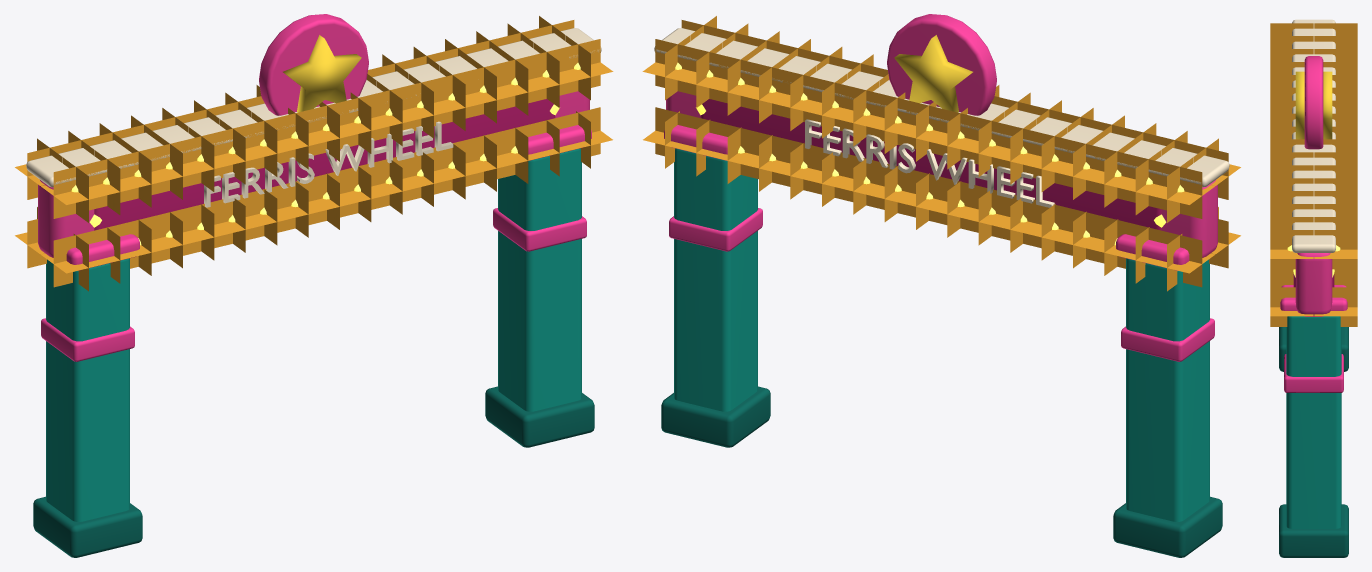
Rendered from gate_ride.glb.
The picture shows the model from 3 angles, left to right: view 1: azimuth 30°, elevation 25°; view 2: azimuth 150°, elevation 25°; view 3: azimuth 270°, elevation 25°; orthographic projection. The views are drawn at different scales.
Parts seen in each view (by area): view 1: Gate; view 2: Gate; view 3: Gate.
Boxes of the visible parts, box(x1,y1,x2,y2) form: Gate: box(15, 14, 613, 557); Gate: box(642, 14, 1240, 557); Gate: box(1270, 19, 1357, 557).
Bounding box in the file's own units: 8.8 × 7.07 × 1.43.
